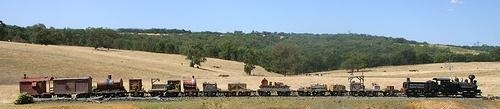train: (19, 73, 484, 103)
